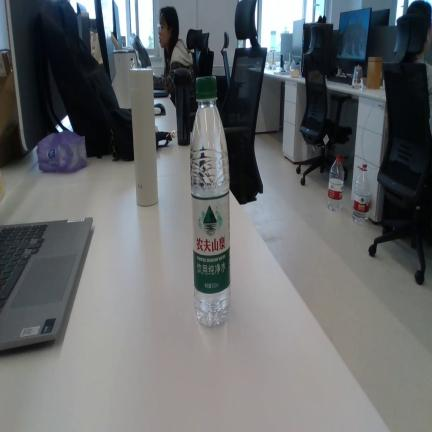bottle: (190, 76, 230, 326), (352, 164, 371, 224), (327, 155, 345, 211)
